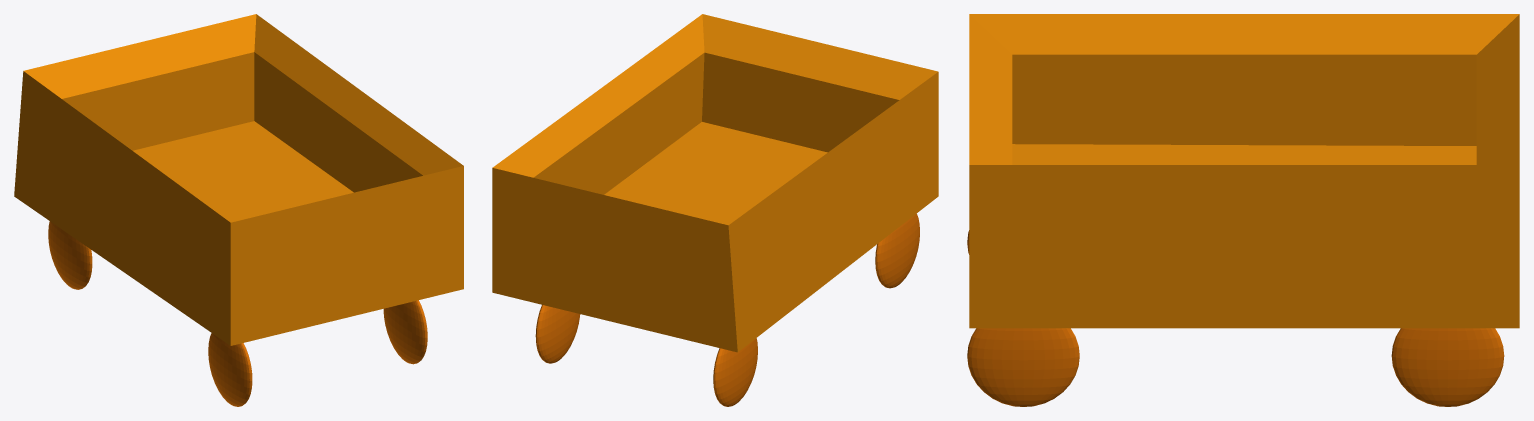
Rendered from Car.glb.
3 renders of one model, left to right at view 1: azimuth 30°, elevation 25°; view 2: azimuth 150°, elevation 25°; view 3: azimuth 270°, elevation 25°, orthographic. The views are drawn at different scales.
Visible parts, largest first — view 1: Cube, Sphere, Sphere.001, Sphere.002; view 2: Cube, Sphere, Sphere.002, Sphere.003; view 3: Cube, Sphere.001, Sphere.003.
Part boxes in pixels (box(x1,y1,x2,y2)): Cube: box(14, 14, 463, 345); Sphere: box(208, 333, 252, 406); Sphere.001: box(383, 300, 427, 364); Sphere.002: box(48, 221, 92, 289); Cube: box(492, 14, 938, 352); Sphere: box(875, 213, 919, 288); Sphere.002: box(713, 338, 757, 406); Sphere.003: box(535, 305, 580, 363); Cube: box(969, 14, 1519, 328); Sphere.001: box(967, 328, 1079, 406); Sphere.003: box(1391, 328, 1504, 406).
Size of the model in its own units: 1.35 by 1.07 by 2.01.
